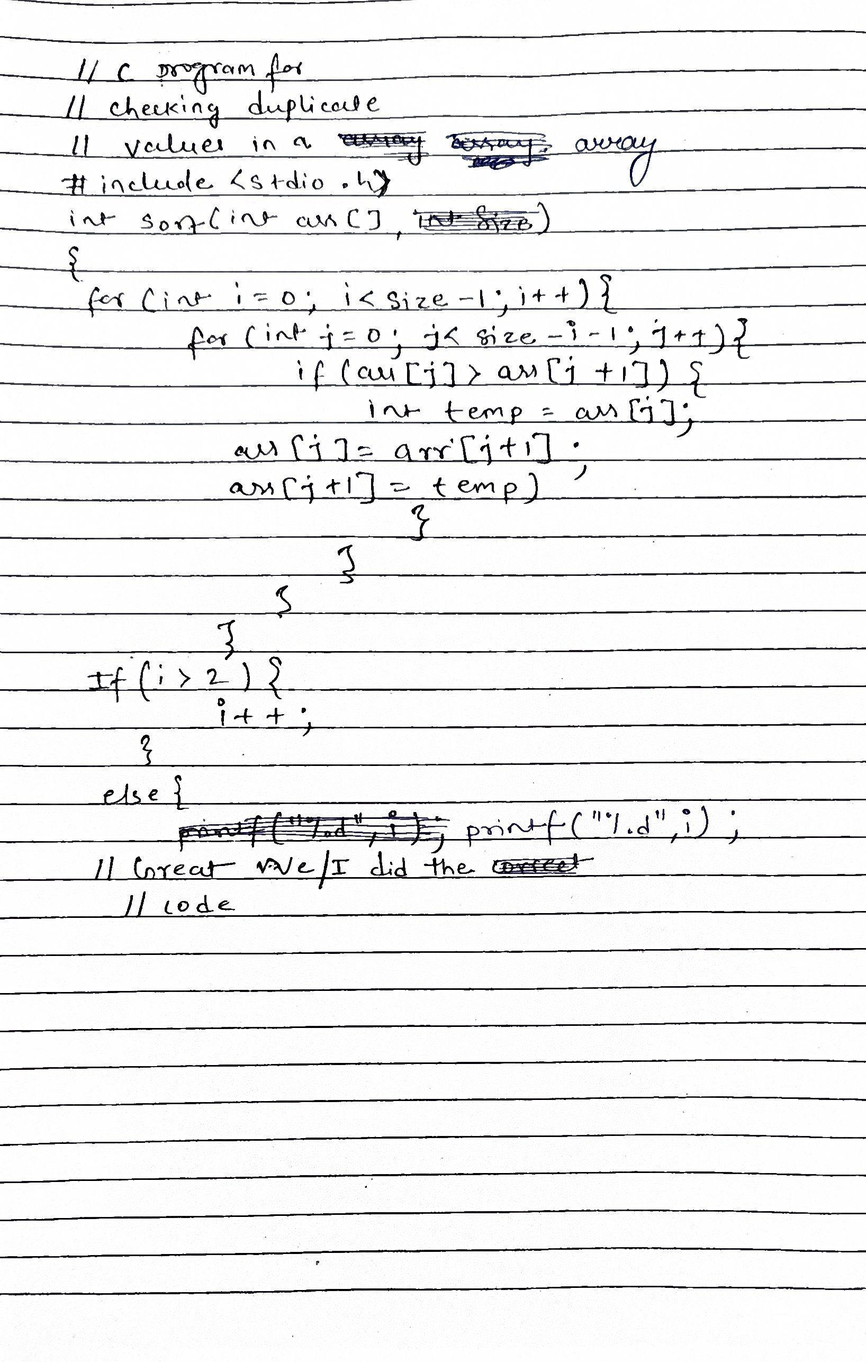cuttings: (175, 807, 454, 856), (445, 125, 555, 172), (409, 206, 537, 237), (333, 132, 431, 167), (488, 851, 594, 877)
